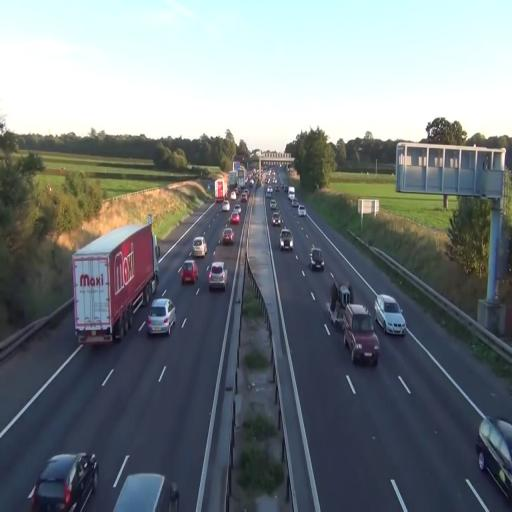vehicle: (72, 217, 160, 343), (27, 451, 98, 512), (112, 466, 180, 512), (477, 416, 512, 502), (342, 302, 380, 368), (375, 293, 407, 336), (146, 296, 176, 336), (207, 260, 227, 290), (179, 260, 199, 286), (309, 248, 325, 272), (192, 236, 208, 260), (280, 228, 294, 252), (221, 226, 235, 246)
